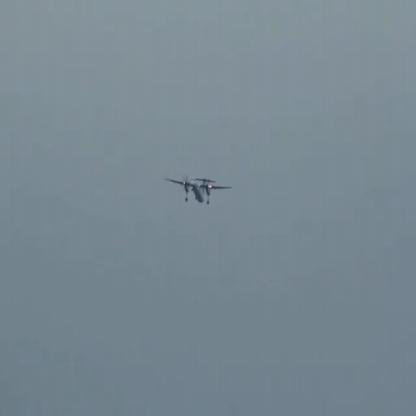CIV_Plane: (163, 174, 233, 204)
